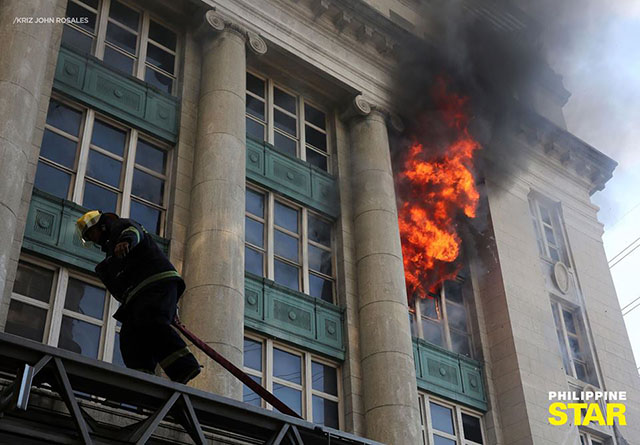fire: (397, 127, 479, 286)
smoke: (397, 2, 628, 128)
